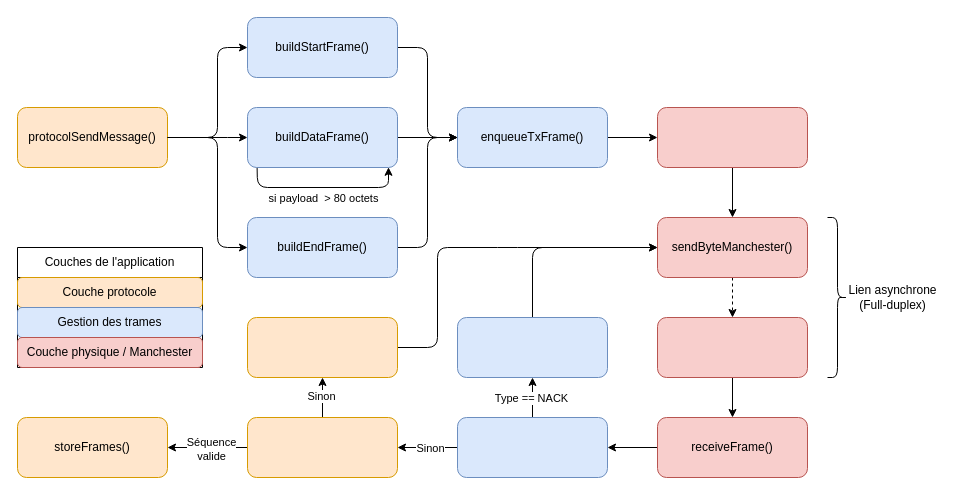
Image size: 965x495. Some labels were removed from this diagram. Here are the shapes that lost their labels. From the top down, the centre of each, then its label:
the point at 732,137: sendFrame()
the point at 322,347: sendNack()
the point at 532,347: retansmitFrame()
the point at 732,347: receiveByteManchester()
the point at 322,447: processFrames()
the point at 532,447: validateFrame()
